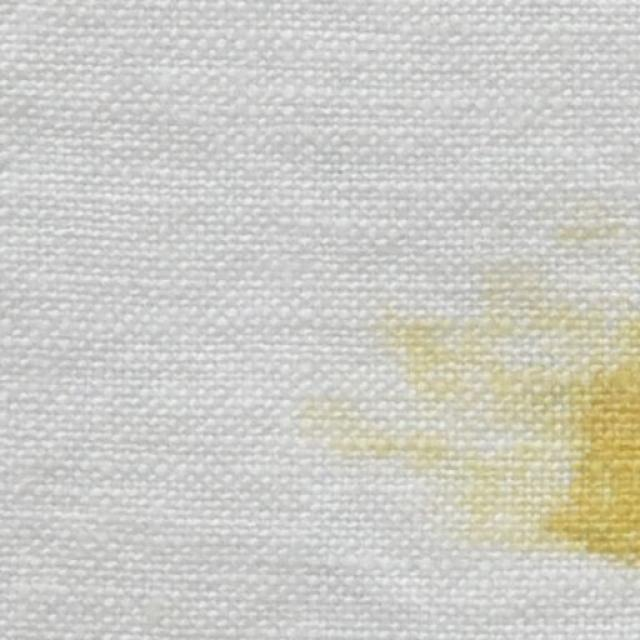Stain: (301, 264, 640, 566)
